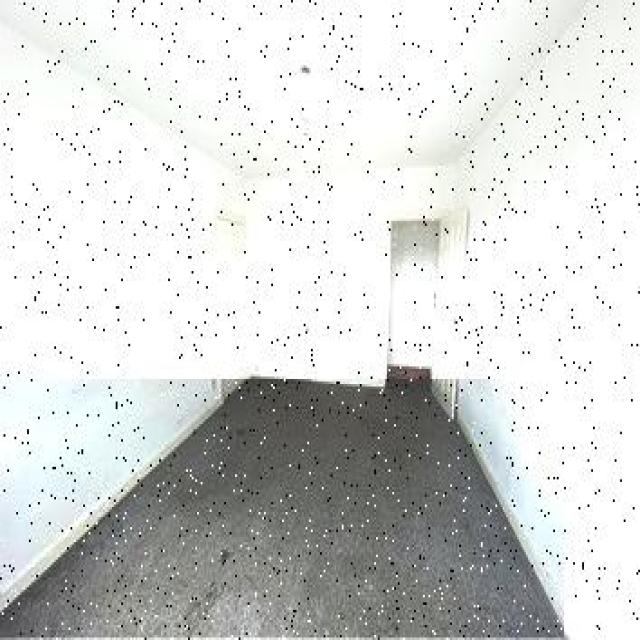Wall: (0, 1, 640, 635), (0, 379, 564, 637), (0, 1, 582, 175)
